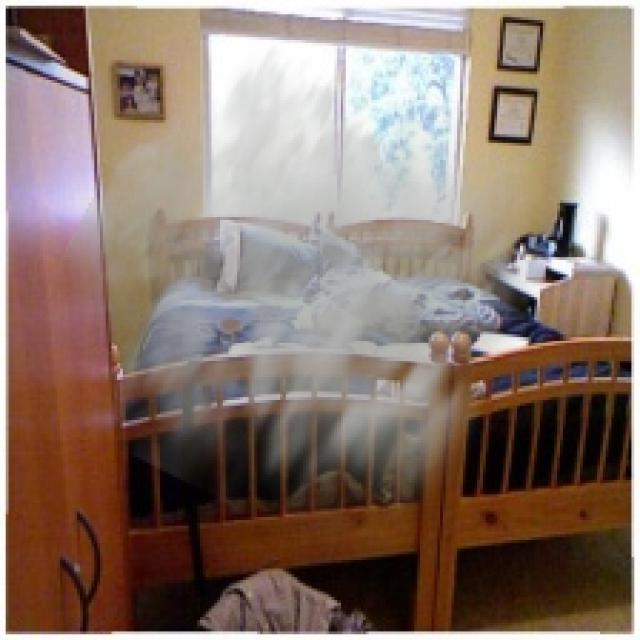smoke: (37, 43, 557, 586)
